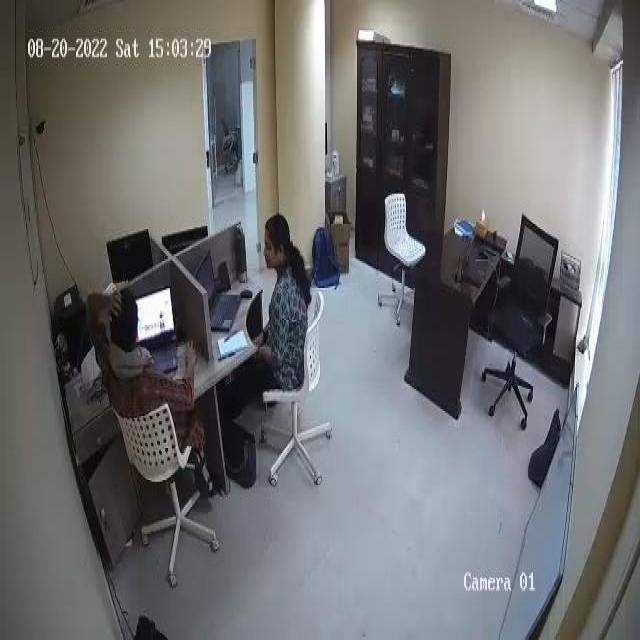bare_hand: (95, 288, 124, 325), (250, 325, 277, 362), (183, 333, 201, 379)
